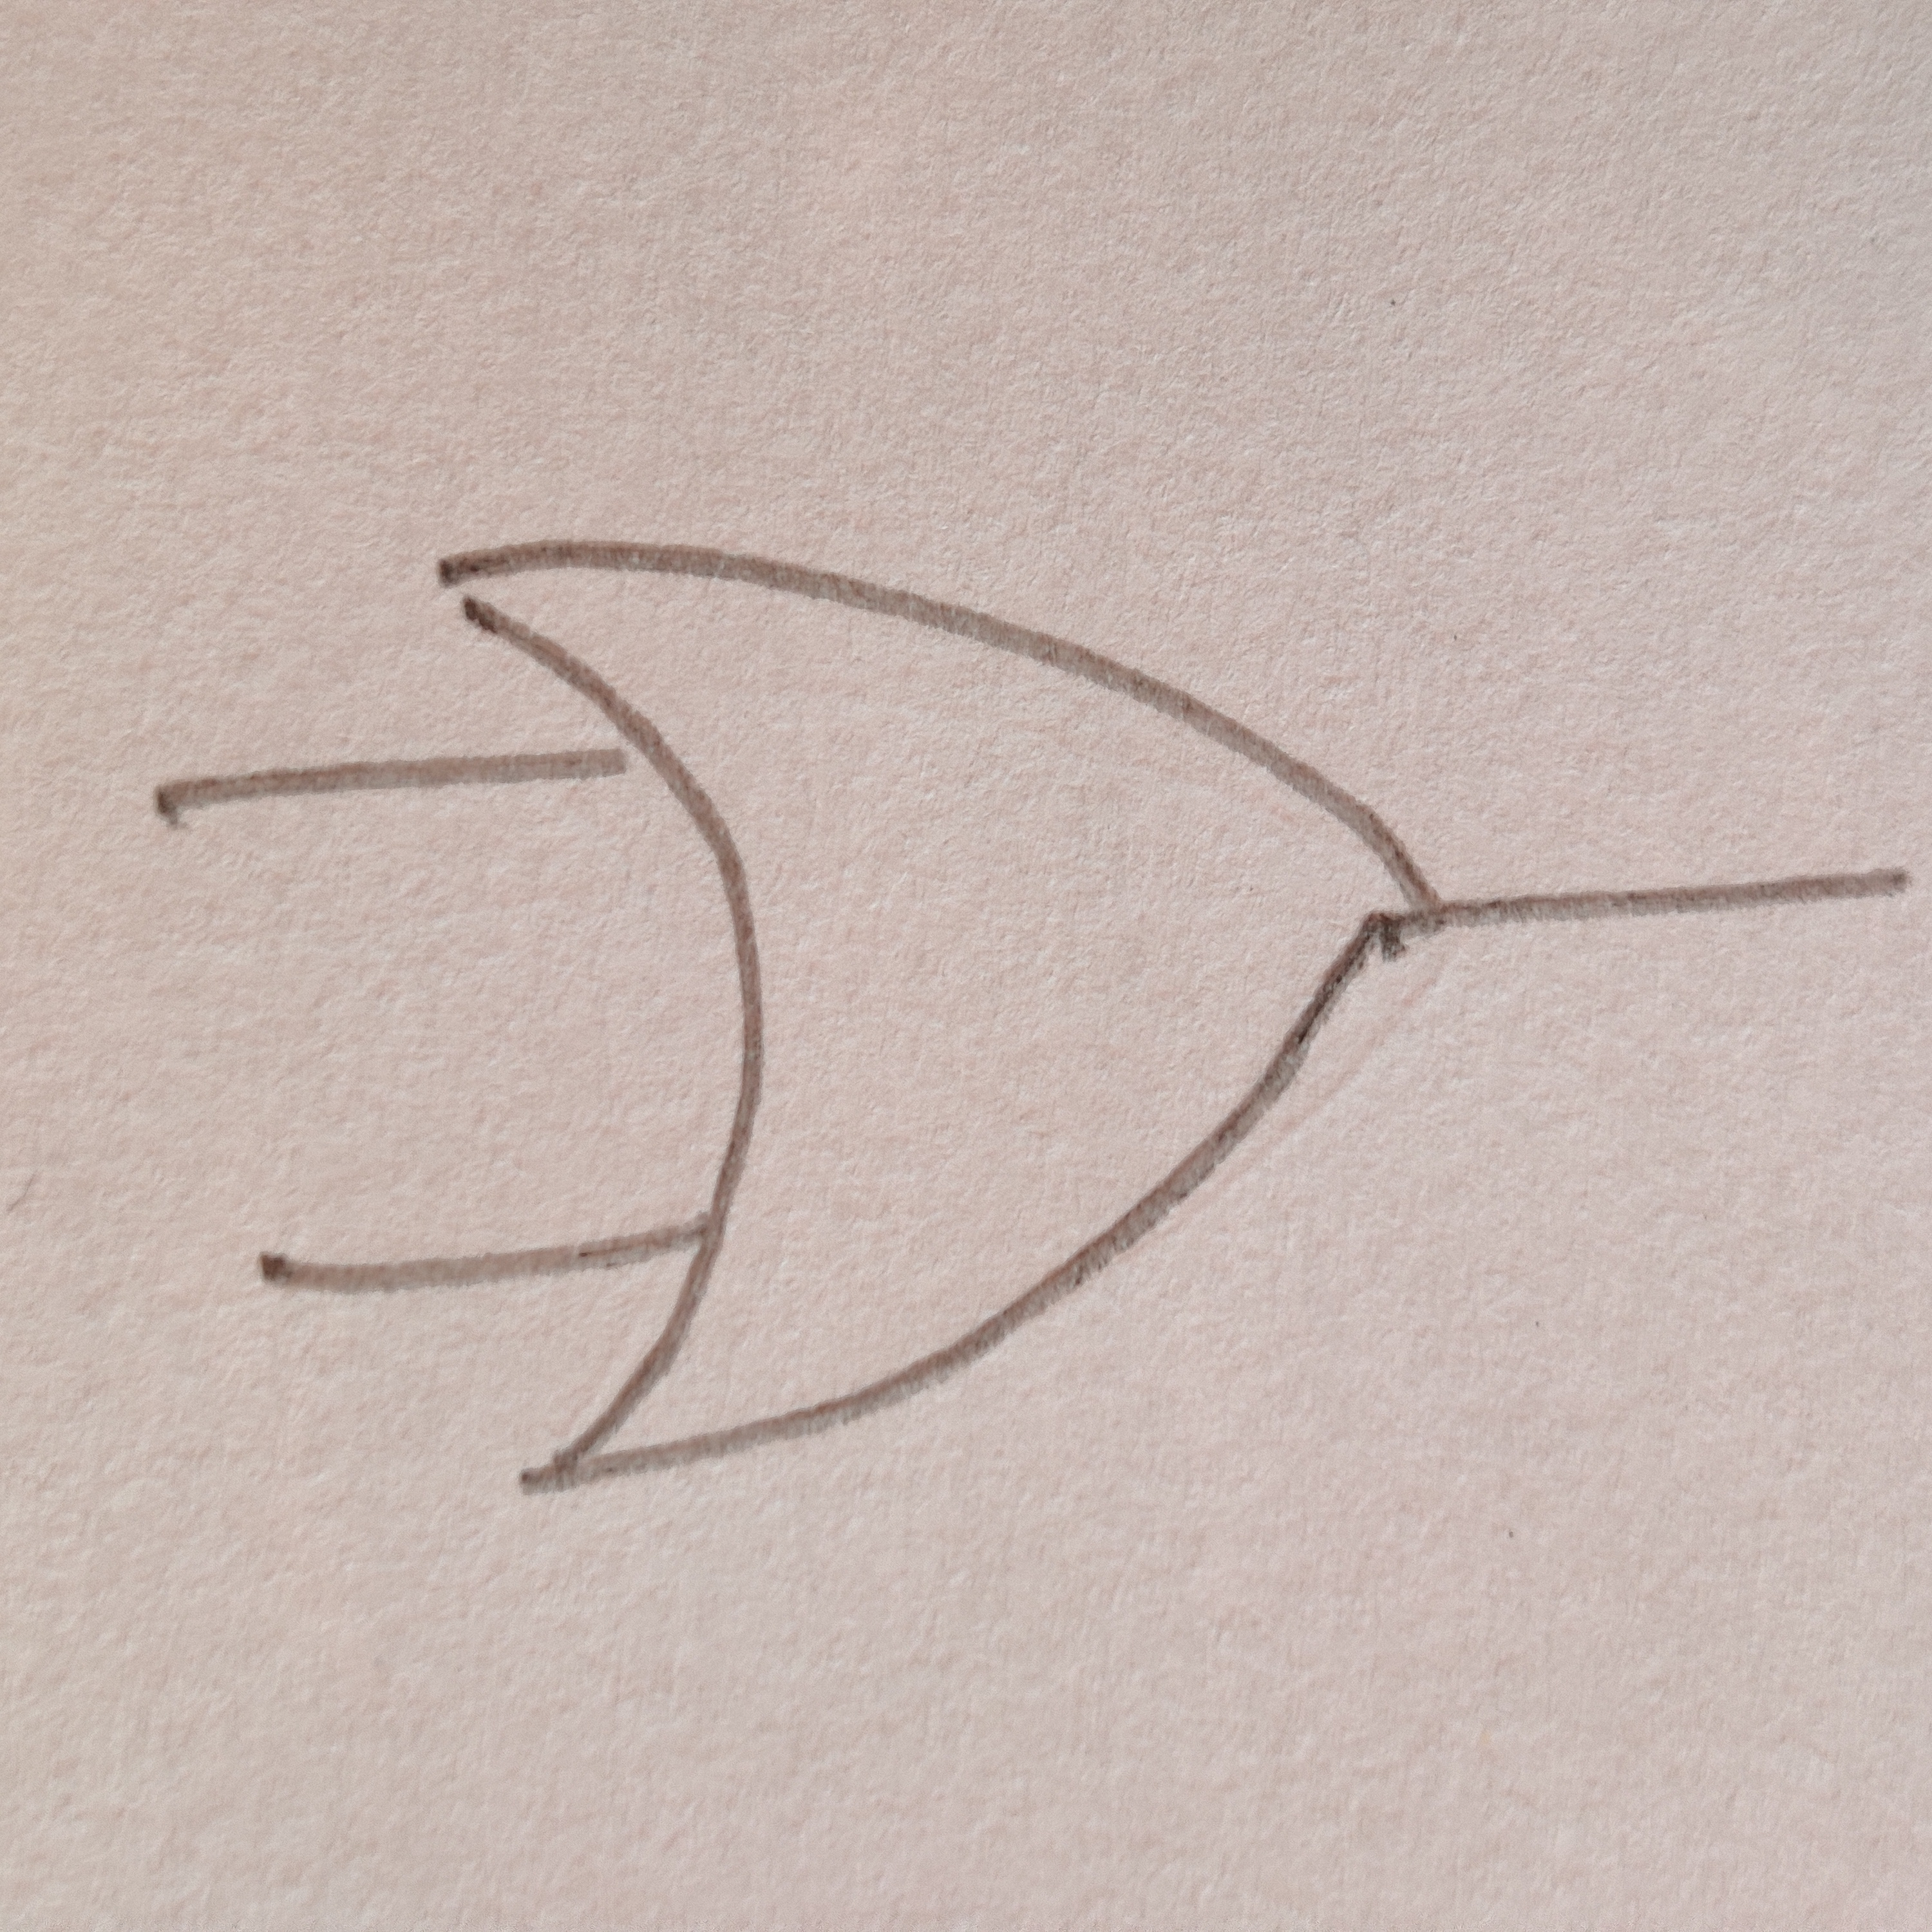or: (446, 543, 1435, 1486)
